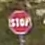stop: (7, 9, 33, 35)
